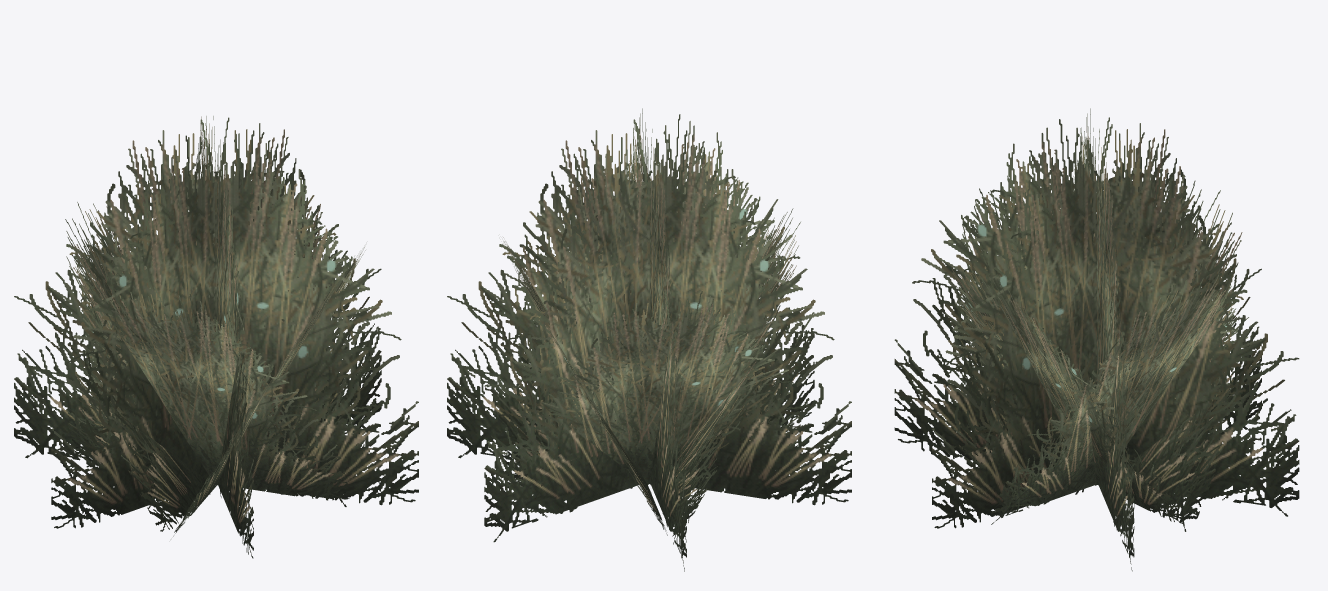
File: grass_seeded.obj
3 views of the same model, side by side, from view 1: azimuth 30°, elevation 25°; view 2: azimuth 150°, elevation 25°; view 3: azimuth 270°, elevation 25° (orthographic).
Visible parts, largest first — view 1: Third_Crossed_Card, First_Crossed_Card, Right_Leaning_Card, Second_Crossed_Card, Front_Leaning_Card, Back_Leaning_Card, Left_Leaning_Card; view 2: First_Crossed_Card, Second_Crossed_Card, Front_Leaning_Card, Third_Crossed_Card, Right_Leaning_Card, Left_Leaning_Card, Back_Leaning_Card; view 3: Second_Crossed_Card, Third_Crossed_Card, Left_Leaning_Card, Back_Leaning_Card, First_Crossed_Card, Front_Leaning_Card, Right_Leaning_Card.
Part boxes in pixels (x1=…): Third_Crossed_Card: x1=14, y1=119, x2=418, y2=505; First_Crossed_Card: x1=51, y1=117, x2=381, y2=528; Right_Leaning_Card: x1=56, y1=287, x2=350, y2=500; Second_Crossed_Card: x1=194, y1=116, x2=253, y2=558; Front_Leaning_Card: x1=65, y1=202, x2=210, y2=531; Back_Leaning_Card: x1=173, y1=247, x2=365, y2=536; Left_Leaning_Card: x1=97, y1=177, x2=376, y2=506; First_Crossed_Card: x1=447, y1=119, x2=851, y2=505; Second_Crossed_Card: x1=484, y1=114, x2=814, y2=542; Front_Leaning_Card: x1=507, y1=291, x2=800, y2=488; Third_Crossed_Card: x1=627, y1=108, x2=686, y2=571; Right_Leaning_Card: x1=656, y1=208, x2=800, y2=544; Left_Leaning_Card: x1=503, y1=237, x2=667, y2=535; Back_Leaning_Card: x1=496, y1=164, x2=788, y2=488; Second_Crossed_Card: x1=894, y1=119, x2=1299, y2=516; Third_Crossed_Card: x1=932, y1=117, x2=1261, y2=528; Left_Leaning_Card: x1=990, y1=271, x2=1248, y2=524; Back_Leaning_Card: x1=952, y1=266, x2=1183, y2=523; First_Crossed_Card: x1=1067, y1=108, x2=1134, y2=571; Front_Leaning_Card: x1=1123, y1=180, x2=1242, y2=531; Right_Leaning_Card: x1=944, y1=175, x2=1096, y2=494.
Bounding box in the file's own units: 56.27 × 55 × 56.27.
Materials: 1 (1 with a texture image).
